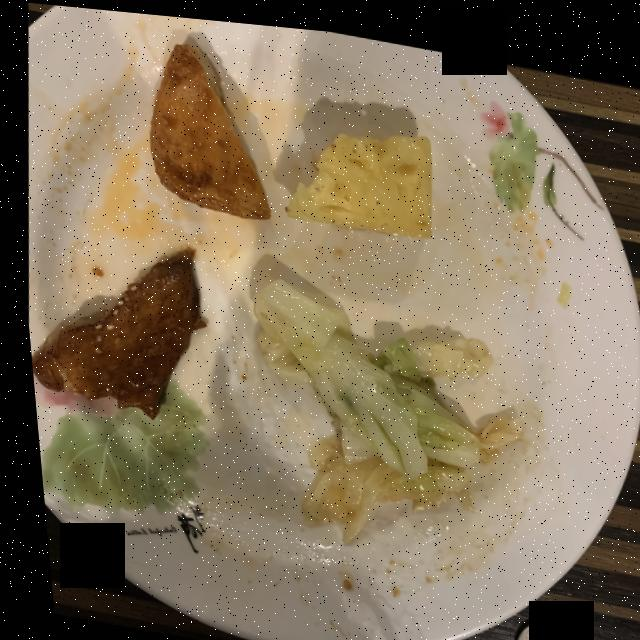Kabayaki sea bream fillet: (25, 244, 198, 416)
cabbage: (247, 274, 514, 536)
coin: (503, 610, 568, 640)
creamy tofu: (146, 40, 266, 214)
pineapple: (282, 126, 428, 230)
